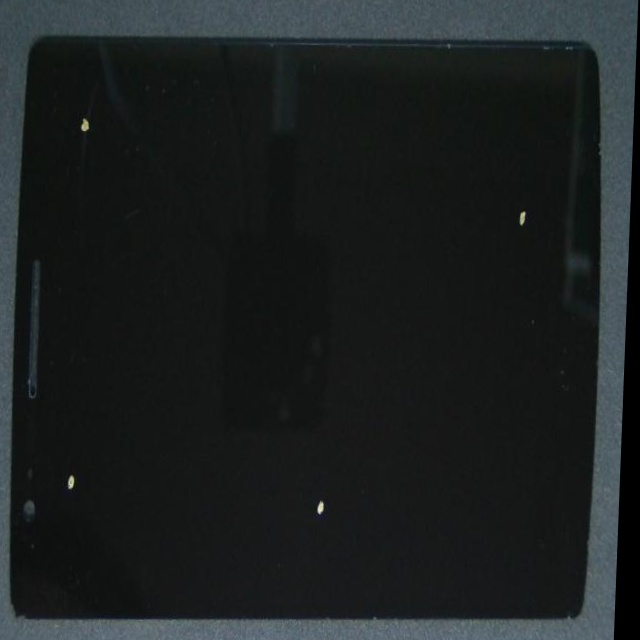stain: (155, 196, 488, 640), (204, 113, 633, 388), (23, 168, 124, 640), (55, 0, 144, 169)
